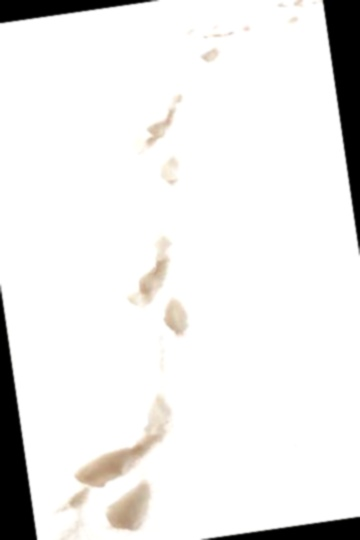lapin: (191, 373, 348, 540), (145, 78, 223, 191), (170, 221, 243, 340), (71, 5, 153, 74), (1, 1, 62, 48)
